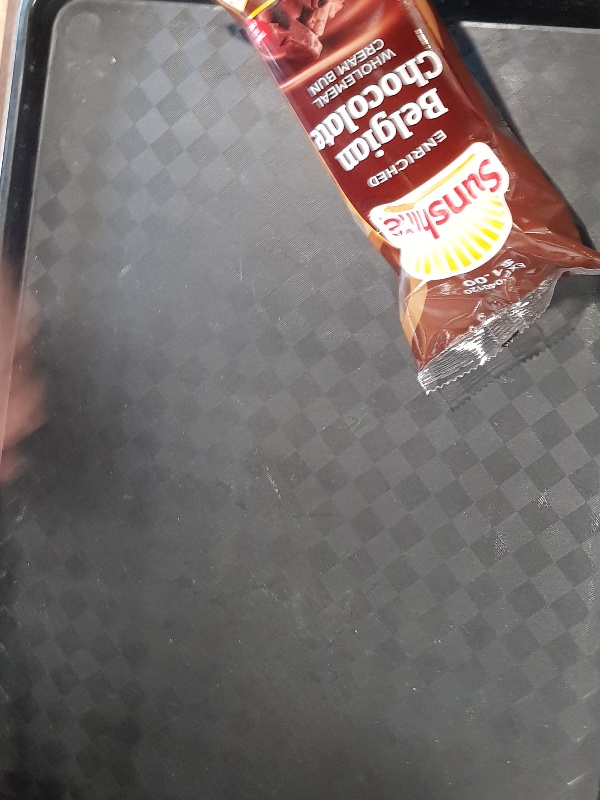Sunshine Belgium Chocolate Wholemeal Cream Bun: (210, 1, 600, 397)
